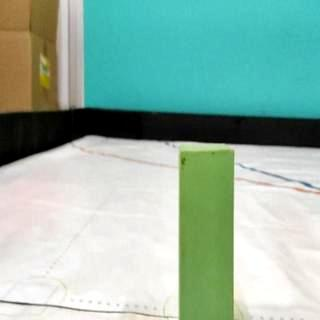greenbox: (178, 143, 236, 320)
